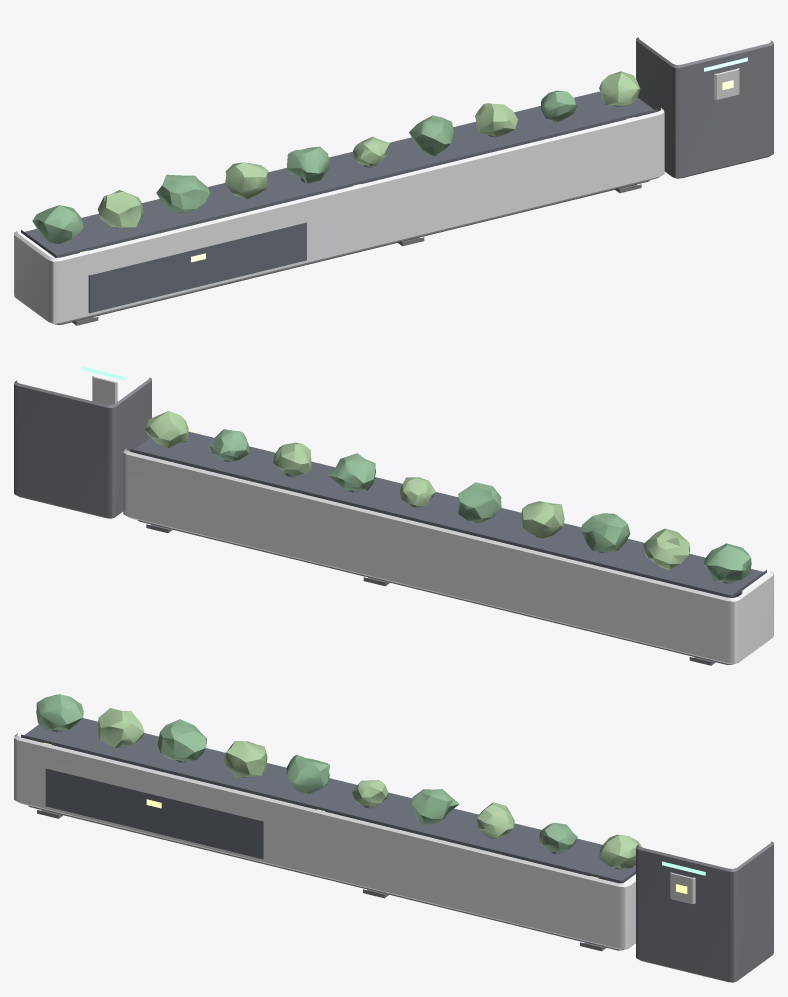
File: iter_05.glb
The picture shows the model from 3 angles, top to bottom: view 1: azimuth 30°, elevation 25°; view 2: azimuth 150°, elevation 25°; view 3: azimuth 330°, elevation 25°; orthographic projection.
Parts seen in each view (by area): view 1: Trough, Grow_Lid, Service_Tower, Reservoir_Drawer, Foliage, Foliage_Light, Plinth, Sprocket_Port; view 2: Trough, Grow_Lid, Service_Tower, Foliage, Foliage_Light, Plinth, Sprocket_Port; view 3: Trough, Service_Tower, Grow_Lid, Reservoir_Drawer, Foliage, Foliage_Light, Plinth, Sprocket_Port.
Boxes of the visible parts, x1=… form: Trough: x1=14, y1=108, x2=664, y2=324; Grow_Lid: x1=21, y1=91, x2=657, y2=257; Service_Tower: x1=636, y1=37, x2=773, y2=178; Reservoir_Drawer: x1=88, y1=222, x2=306, y2=313; Foliage: x1=32, y1=90, x2=576, y2=243; Foliage_Light: x1=98, y1=71, x2=640, y2=228; Plinth: x1=55, y1=180, x2=650, y2=324; Sprocket_Port: x1=714, y1=68, x2=739, y2=100; Trough: x1=123, y1=448, x2=773, y2=664; Grow_Lid: x1=130, y1=431, x2=766, y2=597; Service_Tower: x1=14, y1=377, x2=151, y2=518; Foliage: x1=210, y1=429, x2=751, y2=582; Foliage_Light: x1=145, y1=411, x2=690, y2=569; Plinth: x1=137, y1=520, x2=732, y2=664; Sprocket_Port: x1=92, y1=376, x2=117, y2=404; Trough: x1=14, y1=733, x2=635, y2=949; Service_Tower: x1=636, y1=841, x2=773, y2=982; Grow_Lid: x1=21, y1=718, x2=635, y2=883; Reservoir_Drawer: x1=45, y1=768, x2=263, y2=859; Foliage: x1=36, y1=694, x2=577, y2=851; Foliage_Light: x1=97, y1=708, x2=642, y2=868; Plinth: x1=28, y1=805, x2=623, y2=950; Sprocket_Port: x1=670, y1=872, x2=695, y2=904.
Bounding box in the file's own units: 4 × 0.6 × 0.424.
